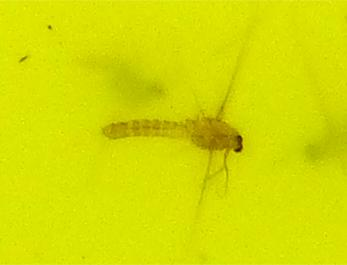Ephemeroptera: (100, 100, 247, 165)
